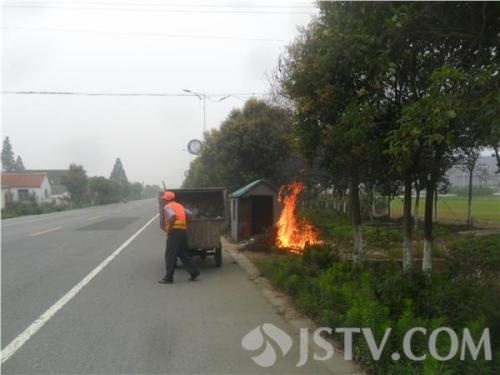fire: (273, 180, 321, 251)
